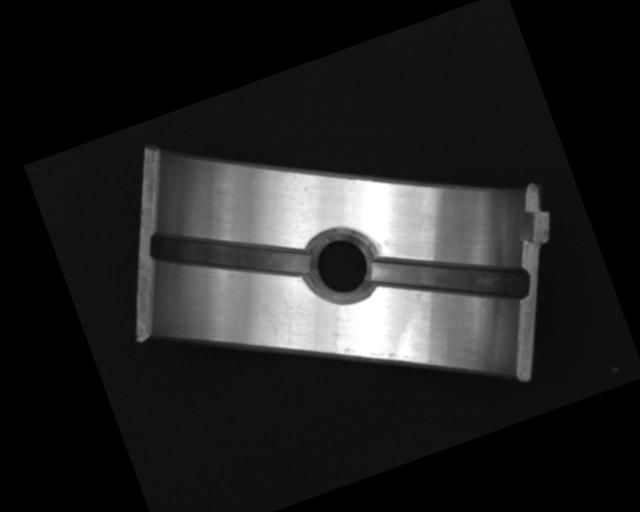gap: (145, 187, 314, 324), (367, 214, 533, 344)
hole: (298, 218, 384, 314)
